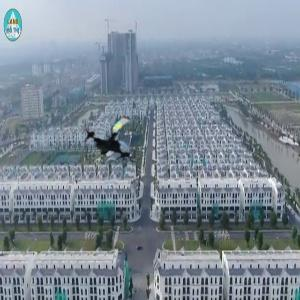drone: (81, 110, 145, 174)
